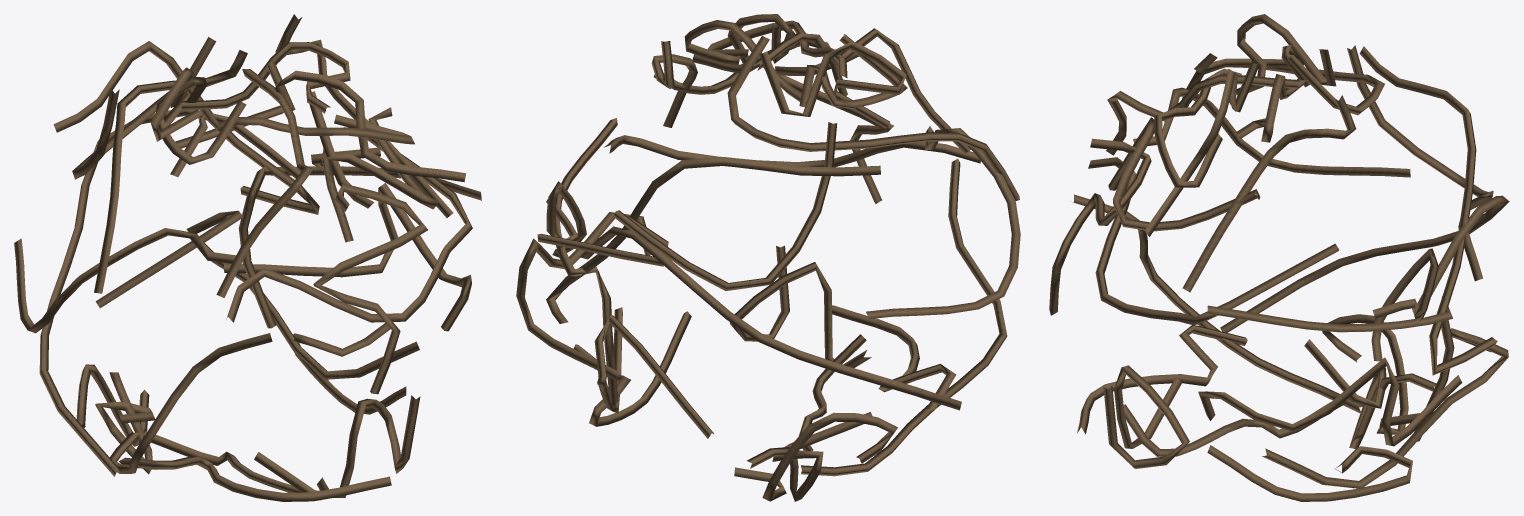
The model's file is tumbleweed.glb.
The picture shows the model from 3 angles, left to right: view 1: azimuth 30°, elevation 25°; view 2: azimuth 150°, elevation 25°; view 3: azimuth 270°, elevation 25°; orthographic projection.
Parts seen in each view (by area): view 1: Moving; view 2: Moving; view 3: Moving.
Part boxes in pixels (box(x1,y1,x2,y2)): Moving: box(14, 14, 481, 501); Moving: box(516, 14, 1020, 501); Moving: box(1049, 14, 1509, 501).
Size of the model in its own units: 0.7558 by 0.7282 by 0.707.
Materials: 1 (1 with a texture image).
